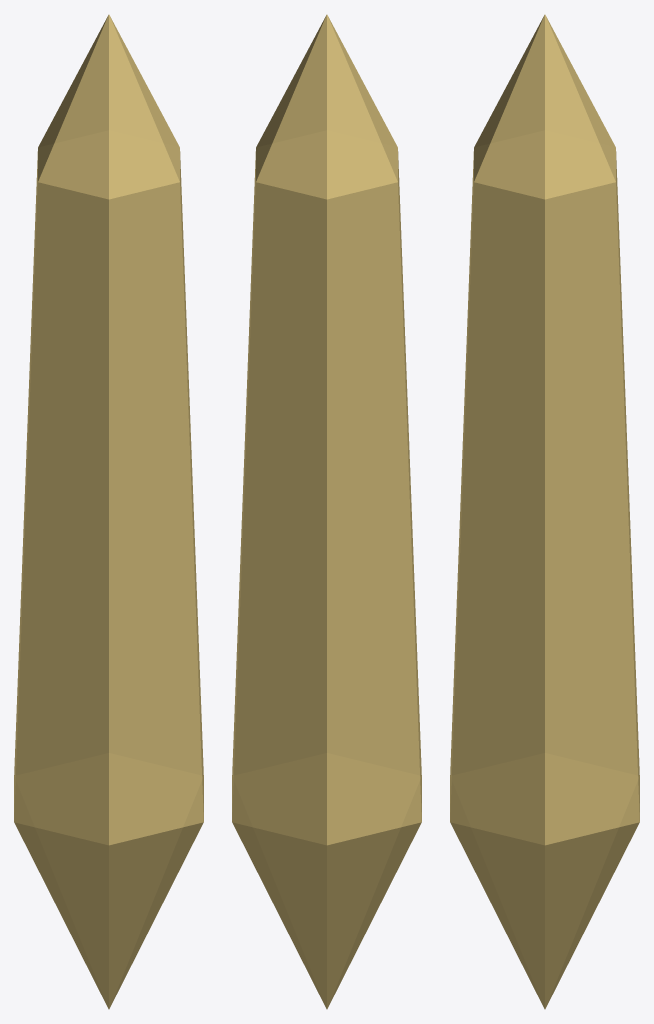
The model's file is cristal_s2.fbx.
3 renders of one model, left to right at view 1: azimuth 30°, elevation 25°; view 2: azimuth 150°, elevation 25°; view 3: azimuth 270°, elevation 25°, orthographic.
Parts seen in each view (by area): view 1: pCylinder1; view 2: pCylinder1; view 3: pCylinder1.
Boxes of the visible parts, box(x1,y1,x2,y2) form: pCylinder1: box(14, 14, 203, 1009); pCylinder1: box(232, 14, 421, 1009); pCylinder1: box(450, 14, 639, 1009).
Size of the model in its own units: 26.94 by 135 by 23.33.
